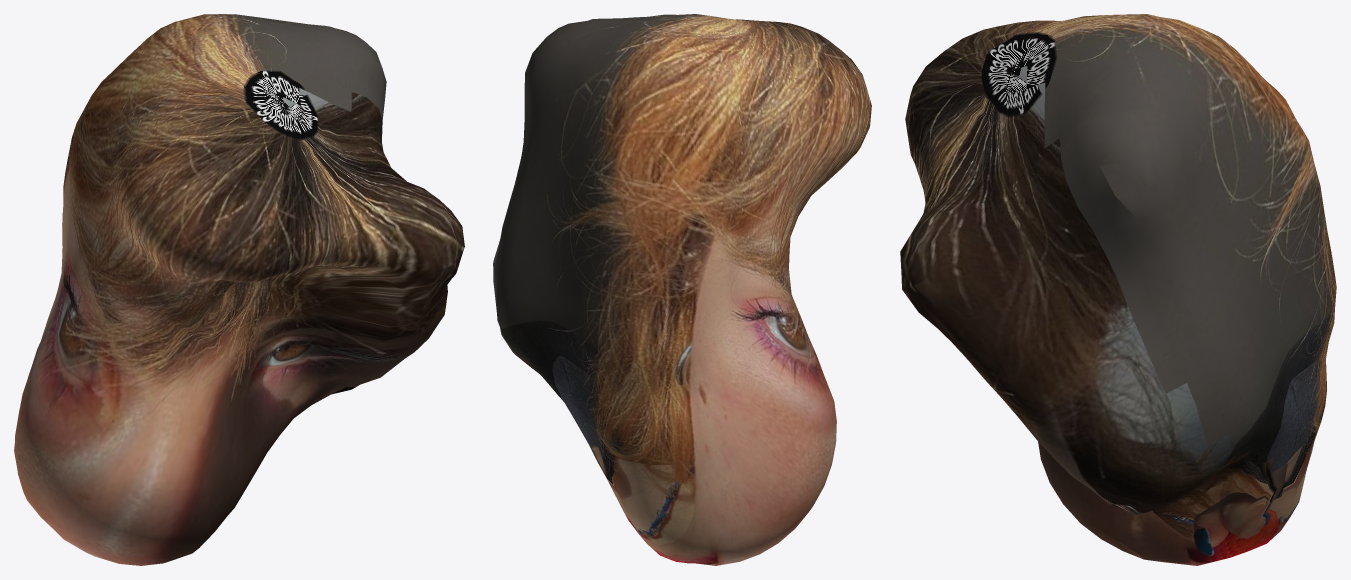
Rendered from shapeE.gltf.
The picture shows the model from 3 angles, left to right: view 1: azimuth 30°, elevation 25°; view 2: azimuth 150°, elevation 25°; view 3: azimuth 270°, elevation 25°; orthographic projection. The views are drawn at different scales.
Parts seen in each view (by area): view 1: shapeE; view 2: shapeE; view 3: shapeE.
Part boxes in pixels (bbox=[...]): shapeE: bbox=[14, 14, 464, 565]; shapeE: bbox=[493, 14, 871, 565]; shapeE: bbox=[900, 14, 1336, 565].
Bounding box in the file's own units: 8.24 × 11.28 × 7.83.
Materials: 1 (1 with a texture image).
